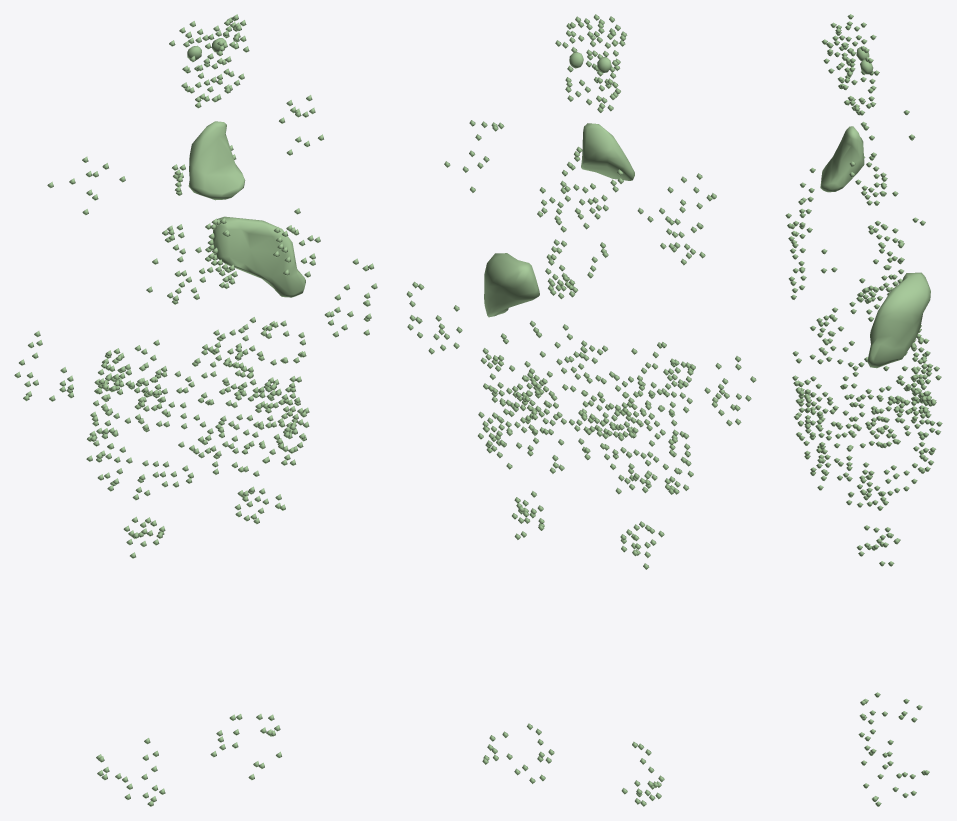
Rendered from pediatric_child_5y_female.lymphatic.LOD2.glb.
3 renders of one model, left to right at view 1: azimuth 30°, elevation 25°; view 2: azimuth 150°, elevation 25°; view 3: azimuth 270°, elevation 25°, orthographic. The views are drawn at different scales.
Parts seen in each view (by area): view 1: PEDIATRIC.CHILD_5Y.FEMALE.LYMPHATIC.LYMPHATIC_NODES_TRUNK, PEDIATRIC.CHILD_5Y.FEMALE.LYMPHATIC.SPLEEN, PEDIATRIC.CHILD_5Y.FEMALE.LYMPHATIC.THYMUS, PEDIATRIC.CHILD_5Y.FEMALE.LYMPHATIC.LYMPHATIC_NODES_ET, PEDIATRIC.CHILD_5Y.FEMALE.LYMPHATIC.LYMPHATIC_NODES_THORACIC, PEDIATRIC.CHILD_5Y.FEMALE.LYMPHATIC.LYMPHATIC_NODES_LEGS, PEDIATRIC.CHILD_5Y.FEMALE.LYMPHATIC.LYMPHATIC_NODES_ARMS; view 2: PEDIATRIC.CHILD_5Y.FEMALE.LYMPHATIC.LYMPHATIC_NODES_TRUNK, PEDIATRIC.CHILD_5Y.FEMALE.LYMPHATIC.SPLEEN, PEDIATRIC.CHILD_5Y.FEMALE.LYMPHATIC.THYMUS, PEDIATRIC.CHILD_5Y.FEMALE.LYMPHATIC.LYMPHATIC_NODES_ET, PEDIATRIC.CHILD_5Y.FEMALE.LYMPHATIC.LYMPHATIC_NODES_THORACIC, PEDIATRIC.CHILD_5Y.FEMALE.LYMPHATIC.LYMPHATIC_NODES_ARMS, PEDIATRIC.CHILD_5Y.FEMALE.LYMPHATIC.LYMPHATIC_NODES_LEGS; view 3: PEDIATRIC.CHILD_5Y.FEMALE.LYMPHATIC.LYMPHATIC_NODES_TRUNK, PEDIATRIC.CHILD_5Y.FEMALE.LYMPHATIC.SPLEEN, PEDIATRIC.CHILD_5Y.FEMALE.LYMPHATIC.THYMUS, PEDIATRIC.CHILD_5Y.FEMALE.LYMPHATIC.LYMPHATIC_NODES_ET, PEDIATRIC.CHILD_5Y.FEMALE.LYMPHATIC.LYMPHATIC_NODES_THORACIC, PEDIATRIC.CHILD_5Y.FEMALE.LYMPHATIC.LYMPHATIC_NODES_LEGS, PEDIATRIC.CHILD_5Y.FEMALE.LYMPHATIC.LYMPHATIC_NODES_ARMS, PEDIATRIC.CHILD_5Y.FEMALE.LYMPHATIC.LYMPHATIC_NODES_HEAD.
Boxes of the visible parts, x1,y1,x2,y2 form: PEDIATRIC.CHILD_5Y.FEMALE.LYMPHATIC.LYMPHATIC_NODES_TRUNK: (47,95,323,558); PEDIATRIC.CHILD_5Y.FEMALE.LYMPHATIC.SPLEEN: (213,216,305,297); PEDIATRIC.CHILD_5Y.FEMALE.LYMPHATIC.THYMUS: (188,121,245,200); PEDIATRIC.CHILD_5Y.FEMALE.LYMPHATIC.LYMPHATIC_NODES_ET: (169,14,249,85); PEDIATRIC.CHILD_5Y.FEMALE.LYMPHATIC.LYMPHATIC_NODES_THORACIC: (165,145,237,288); PEDIATRIC.CHILD_5Y.FEMALE.LYMPHATIC.LYMPHATIC_NODES_LEGS: (96,714,281,806); PEDIATRIC.CHILD_5Y.FEMALE.LYMPHATIC.LYMPHATIC_NODES_ARMS: (14,258,377,401); PEDIATRIC.CHILD_5Y.FEMALE.LYMPHATIC.LYMPHATIC_NODES_TRUNK: (444,120,716,569); PEDIATRIC.CHILD_5Y.FEMALE.LYMPHATIC.SPLEEN: (484,253,539,317); PEDIATRIC.CHILD_5Y.FEMALE.LYMPHATIC.THYMUS: (581,123,634,180); PEDIATRIC.CHILD_5Y.FEMALE.LYMPHATIC.LYMPHATIC_NODES_ET: (555,14,627,91); PEDIATRIC.CHILD_5Y.FEMALE.LYMPHATIC.LYMPHATIC_NODES_THORACIC: (545,146,623,299); PEDIATRIC.CHILD_5Y.FEMALE.LYMPHATIC.LYMPHATIC_NODES_ARMS: (406,281,756,426); PEDIATRIC.CHILD_5Y.FEMALE.LYMPHATIC.LYMPHATIC_NODES_LEGS: (482,723,664,806); PEDIATRIC.CHILD_5Y.FEMALE.LYMPHATIC.LYMPHATIC_NODES_TRUNK: (785,85,942,566); PEDIATRIC.CHILD_5Y.FEMALE.LYMPHATIC.SPLEEN: (867,272,930,368); PEDIATRIC.CHILD_5Y.FEMALE.LYMPHATIC.THYMUS: (820,126,864,192); PEDIATRIC.CHILD_5Y.FEMALE.LYMPHATIC.LYMPHATIC_NODES_ET: (821,14,879,90); PEDIATRIC.CHILD_5Y.FEMALE.LYMPHATIC.LYMPHATIC_NODES_THORACIC: (849,152,904,303); PEDIATRIC.CHILD_5Y.FEMALE.LYMPHATIC.LYMPHATIC_NODES_LEGS: (858,692,929,806); PEDIATRIC.CHILD_5Y.FEMALE.LYMPHATIC.LYMPHATIC_NODES_ARMS: (856,234,903,448); PEDIATRIC.CHILD_5Y.FEMALE.LYMPHATIC.LYMPHATIC_NODES_HEAD: (838,71,873,115).
Size of the model in its own units: 0.3443 by 0.726 by 0.1364.
